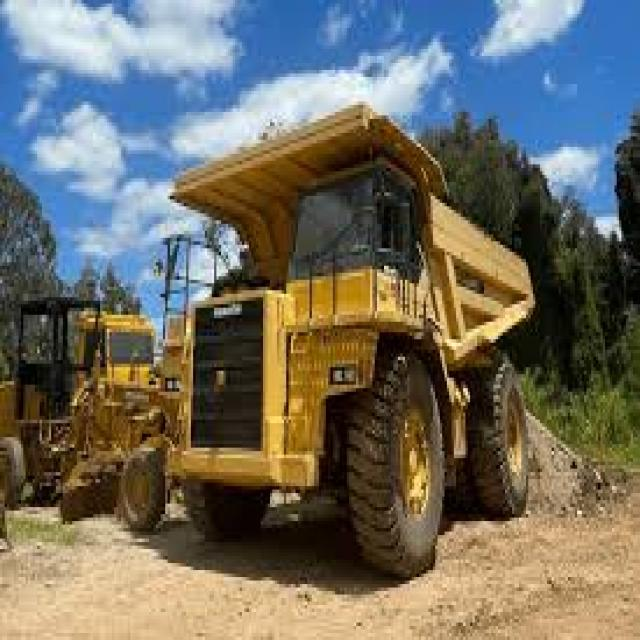dump_truck: (139, 95, 537, 581)
